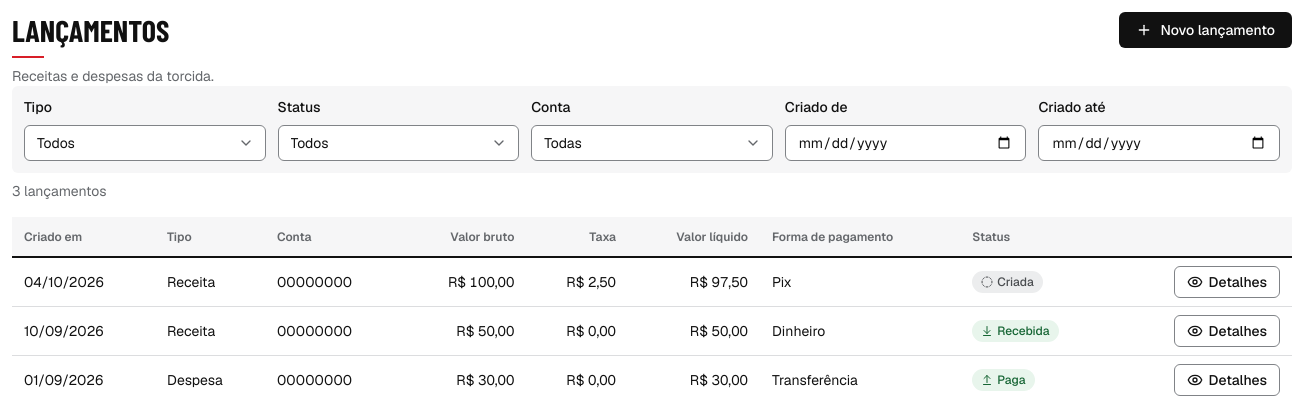
Test case: lista › filtro sem resultado explica o vazio
Expected: the heading "Lançamentos" is shown, [12,12,169,58]
Select "Cancelada" in the dropdown labelled "Status" at x=398, y=143, box [278,125,519,161]
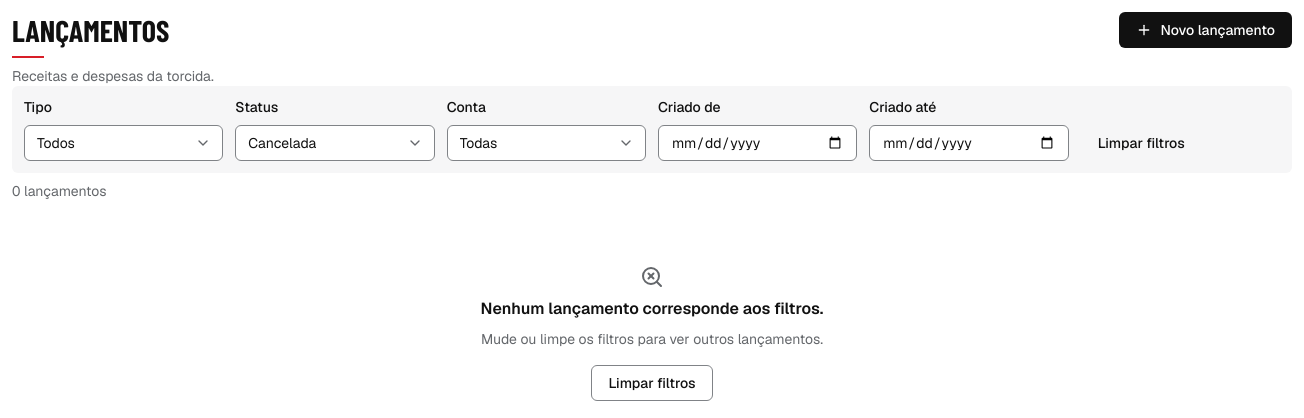
Result: the heading "Nenhum lançamento corresponde aos filtros." is shown at [481,297,823,321]
